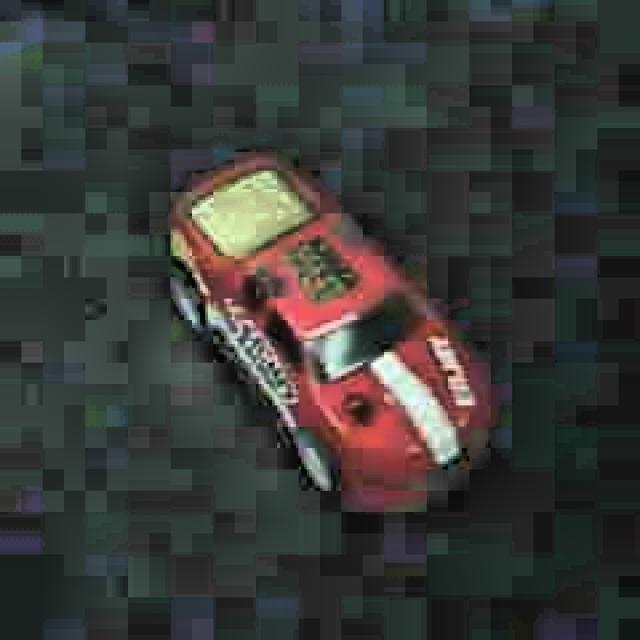car: (163, 150, 499, 521)
